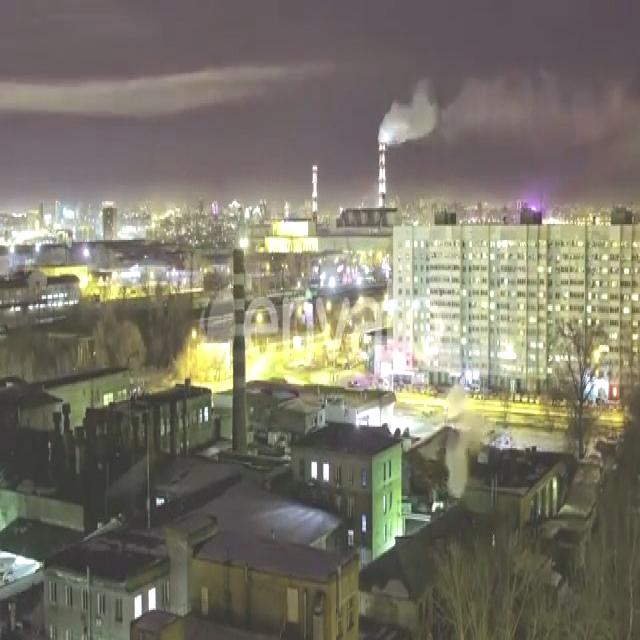smoke: (378, 69, 639, 149)
